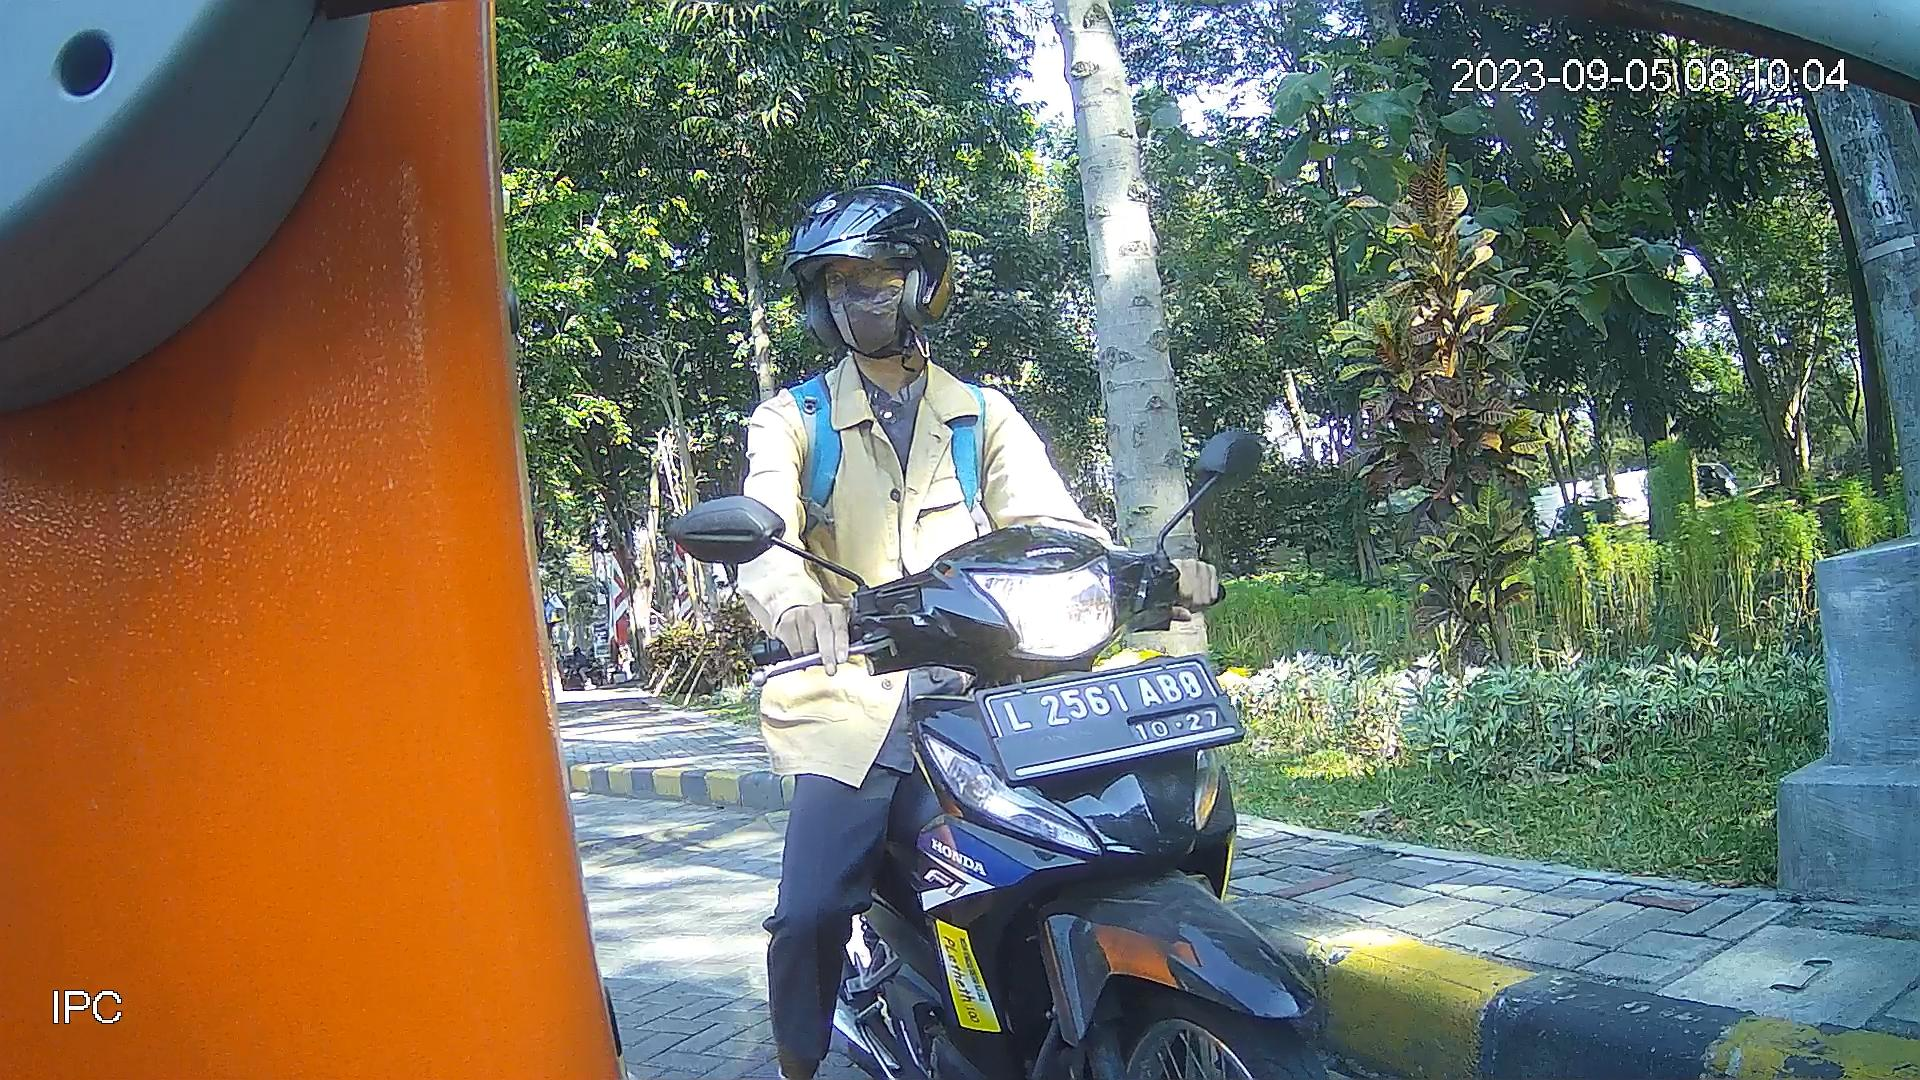plat: (972, 651, 1249, 782)
